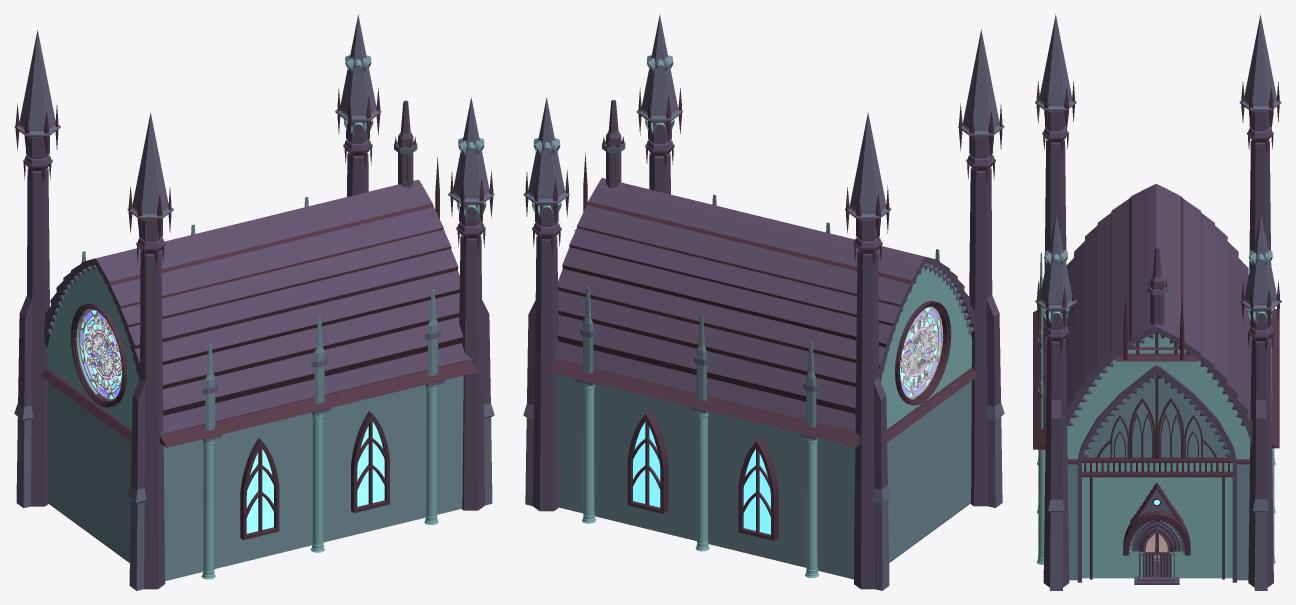
Rendered from Cathedral.fbx.
3 renders of one model, left to right at view 1: azimuth 30°, elevation 25°; view 2: azimuth 150°, elevation 25°; view 3: azimuth 270°, elevation 25°, orthographic. The views are drawn at different scales.
Visible parts, largest first — view 1: Cube.660, Cylinder.593, Cube.394, Cylinder.606, Cylinder.572, Cube.393, Cube.659, Cube.672, Cube.674, Cylinder.601, Cone.125, Cone.138 (+13 smaller); view 2: Cube.528, Cylinder.606, Cube.394, Cylinder.593, Cylinder.560, Cube.658, Cube.393, Cube.673, Cube.675, Cylinder.601, Cone.138, Cone.125 (+13 smaller); view 3: Cube.529, Cube.395, Cube.528, Cube.660, Cylinder.572, Cylinder.560, Cylinder.593, Cylinder.606, Cone.125, Cone.138, Cone.001, Cone.026 (+16 smaller).
Part boxes in pixels (bbox=[...]): Cube.660: bbox=[95, 179, 472, 580]; Cylinder.593: bbox=[127, 219, 165, 590]; Cube.394: bbox=[47, 381, 131, 561]; Cylinder.606: bbox=[14, 136, 52, 508]; Cylinder.572: bbox=[456, 205, 494, 510]; Cube.393: bbox=[47, 266, 138, 429]; Cube.659: bbox=[159, 359, 477, 447]; Cube.672: bbox=[240, 438, 279, 540]; Cube.674: bbox=[351, 411, 389, 513]; Cylinder.601: bbox=[79, 309, 121, 400]; Cone.125: bbox=[127, 113, 173, 220]; Cone.138: bbox=[14, 30, 60, 137]; Cube.528: bbox=[554, 178, 925, 579]; Cylinder.606: bbox=[853, 218, 891, 590]; Cube.394: bbox=[887, 381, 971, 561]; Cylinder.593: bbox=[966, 136, 1004, 507]; Cylinder.560: bbox=[523, 205, 561, 511]; Cube.658: bbox=[546, 358, 861, 446]; Cube.393: bbox=[881, 264, 971, 429]; Cube.673: bbox=[627, 410, 668, 513]; Cube.675: bbox=[738, 437, 778, 540]; Cylinder.601: bbox=[900, 306, 943, 398]; Cone.138: bbox=[845, 112, 891, 220]; Cone.125: bbox=[958, 30, 1004, 137]; Cube.529: bbox=[1067, 333, 1250, 582]; Cube.395: bbox=[1067, 463, 1249, 580]; Cube.528: bbox=[1156, 184, 1252, 443]; Cube.660: bbox=[1065, 184, 1156, 430]; Cylinder.572: bbox=[1043, 311, 1069, 590]; Cylinder.560: bbox=[1247, 311, 1274, 590]; Cylinder.593: bbox=[1042, 112, 1068, 271]; Cylinder.606: bbox=[1247, 112, 1273, 271]; Cone.125: bbox=[1035, 14, 1076, 112]; Cone.138: bbox=[1239, 14, 1281, 112]; Cone.001: bbox=[1240, 214, 1281, 311]; Cone.026: bbox=[1035, 214, 1076, 311].
Size of the model in its own units: 1045 by 1314 by 693.
